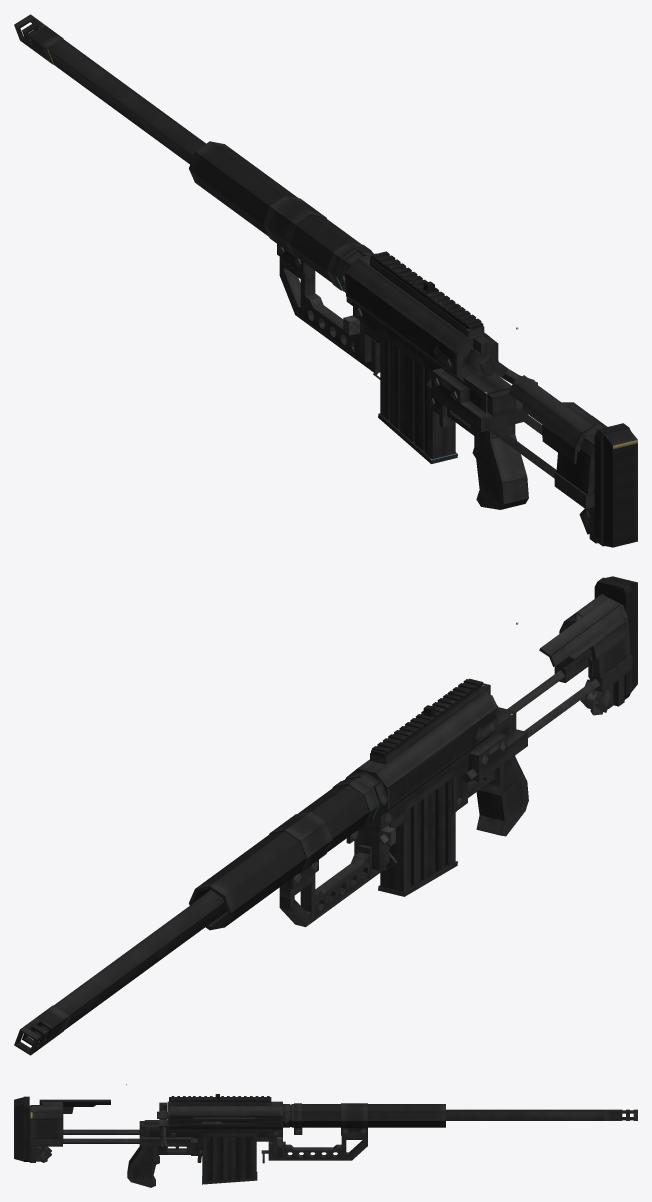
The picture shows the model from 3 angles, top to bottom: view 1: azimuth 30°, elevation 25°; view 2: azimuth 150°, elevation 25°; view 3: azimuth 270°, elevation 25°; orthographic projection. The views are drawn at different scales.
Parts seen in each view (by area): view 1: receiver, stock, handguard, magazine, barrel, pistolgrip, carryhandle, picrail, bone3, mbrake; view 2: receiver, stock, handguard, magazine, barrel, carryhandle, pistolgrip, picrail, bone3, mbrake; view 3: receiver, stock, handguard, magazine, barrel, carryhandle, pistolgrip, bone3, picrail, bolt, mbrake, bone5 (+1 smaller).
Part boxes in pixels (<box>): receiver: <box>343,253,527,432</box>; stock: <box>426,375,637,547</box>; handguard: <box>189,141,373,305</box>; magazine: <box>378,337,457,463</box>; barrel: <box>47,39,205,164</box>; pistolgrip: <box>427,370,528,509</box>; carryhandle: <box>277,244,380,379</box>; picrail: <box>371,251,483,329</box>; bone3: <box>263,195,326,257</box>; mbrake: <box>14,14,63,64</box>; receiver: <box>346,685,527,870</box>; stock: <box>461,576,637,782</box>; handguard: <box>189,771,387,930</box>; magazine: <box>378,778,457,896</box>; barrel: <box>54,890,226,1030</box>; carryhandle: <box>279,795,397,927</box>; pistolgrip: <box>452,755,528,836</box>; picrail: <box>371,678,483,756</box>; bone3: <box>269,811,332,873</box>; mbrake: <box>14,1005,69,1055</box>; receiver: <box>139,1101,282,1157</box>; stock: <box>14,1096,197,1162</box>; handguard: <box>283,1104,445,1134</box>; magazine: <box>202,1121,257,1184</box>; barrel: <box>446,1109,603,1120</box>; carryhandle: <box>261,1118,367,1163</box>; pistolgrip: <box>127,1137,206,1187</box>; bone3: <box>341,1103,367,1127</box>; picrail: <box>169,1096,271,1101</box>; bolt: <box>157,1102,255,1123</box>; mbrake: <box>603,1109,637,1120</box>; bone5: <box>158,1119,167,1150</box>.
Bounding box in the file's own units: 69.87 × 159 × 895.
Materials: 1 (1 with a texture image).
